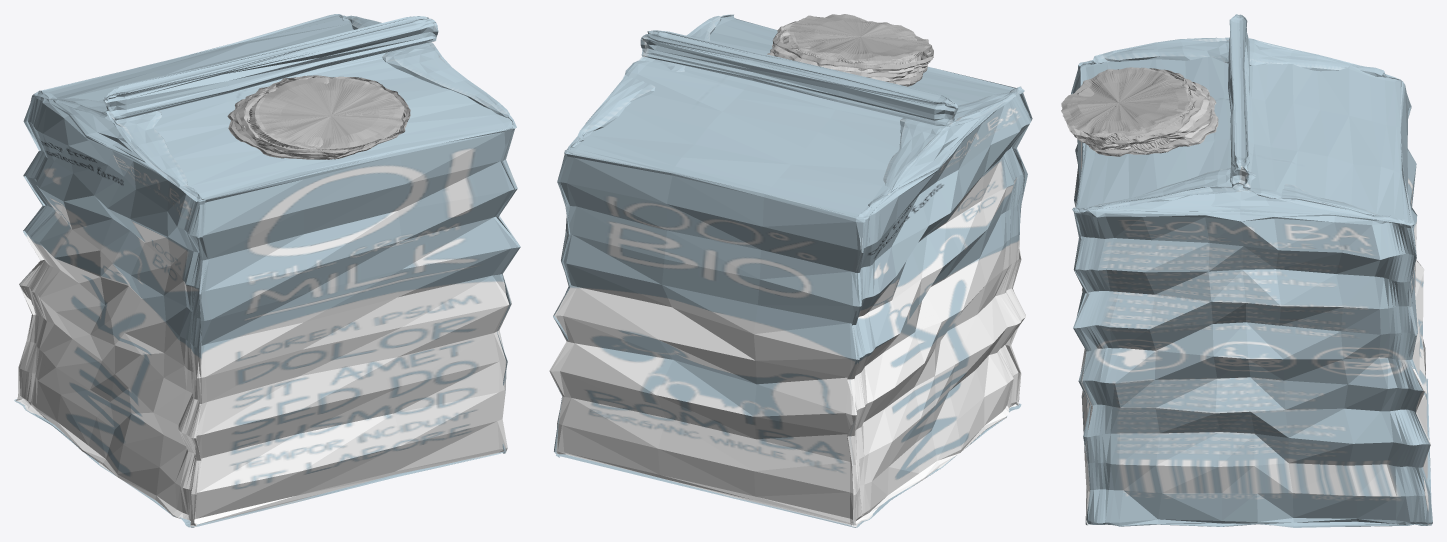
File: crush_high_1.obj
3 views of the same model, side by side, from view 1: azimuth 30°, elevation 25°; view 2: azimuth 150°, elevation 25°; view 3: azimuth 270°, elevation 25° (orthographic). The views are drawn at different scales.
Parts seen in each view (by area): view 1: model; view 2: model; view 3: model.
Boxes of the visible parts, box(x1,y1,x2,y2) form: model: box(14, 14, 520, 527); model: box(549, 14, 1032, 527); model: box(1061, 14, 1432, 527).
Bounding box in the file's own units: 0.0638 × 0.0683 × 0.0629.
1 material, 1 textured.
